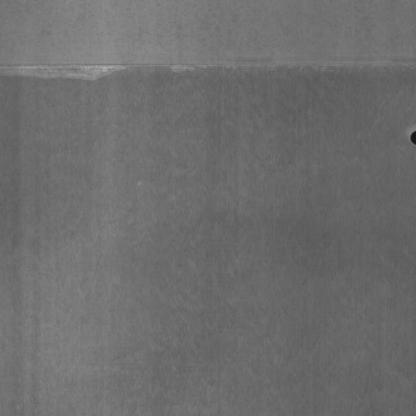punching_hole: (407, 123, 416, 150)
silk_spot: (39, 119, 376, 402)
welding_line: (1, 53, 416, 90)
